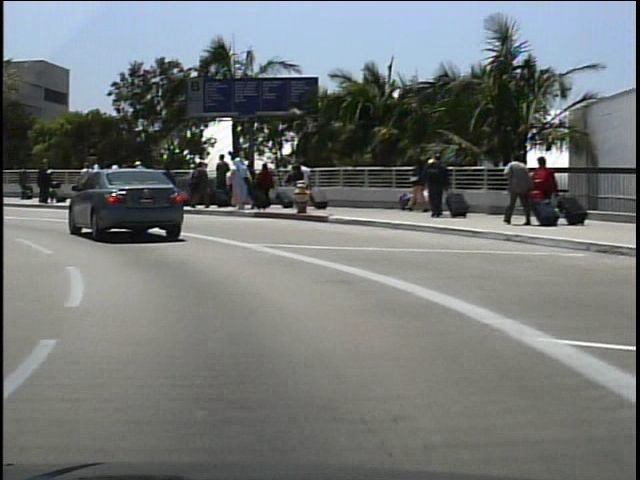person: (500, 151, 530, 226), (526, 153, 557, 225), (417, 152, 448, 218), (35, 157, 58, 210), (292, 155, 315, 205), (34, 156, 54, 203), (15, 163, 32, 202)
